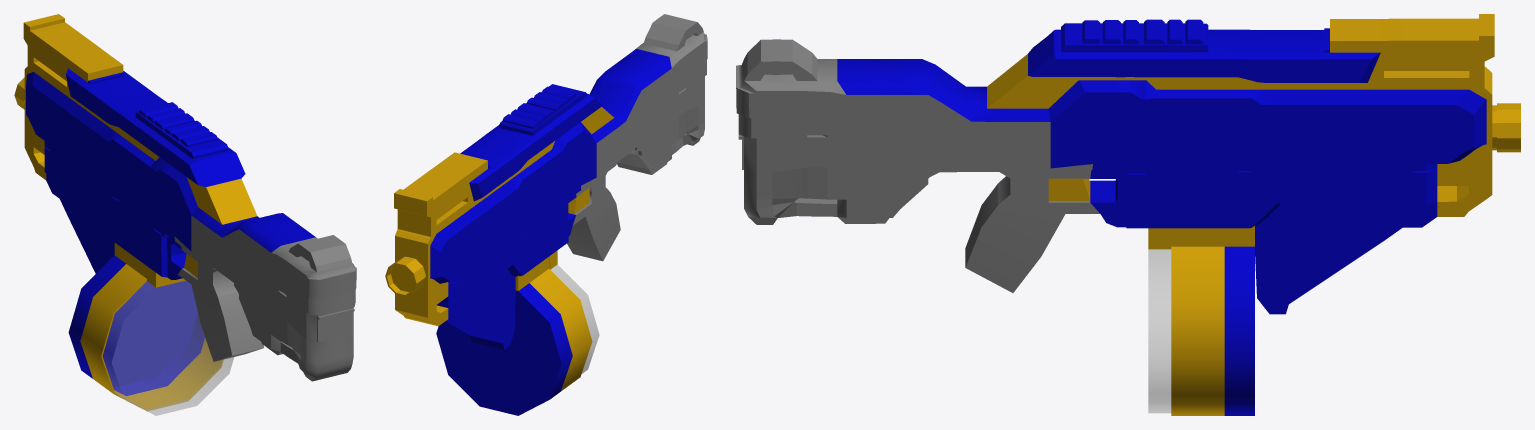
File: NerfBlaster2.0.fbx
The picture shows the model from 3 angles, left to right: view 1: azimuth 30°, elevation 25°; view 2: azimuth 150°, elevation 25°; view 3: azimuth 270°, elevation 25°; orthographic projection. The views are drawn at different scales.
Visible parts, largest first — view 1: Gun_Body, Bullet_Chamber; view 2: Gun_Body, Bullet_Chamber, Muzzle, Trigger; view 3: Gun_Body, Bullet_Chamber, Muzzle, Trigger.
Boxes of the visible parts, x1,y1,x2,y2 form: Gun_Body: (23,14,356,381); Bullet_Chamber: (68,243,233,415); Gun_Body: (394,14,707,349); Bullet_Chamber: (436,250,599,415); Muzzle: (385,257,425,296); Trigger: (568,188,589,214); Gun_Body: (736,14,1494,314); Bullet_Chamber: (1148,225,1254,415); Muzzle: (1492,103,1520,152); Trigger: (1048,178,1090,201).
Bounding box in the file's own units: 3.72 × 7.89 × 14.84.
